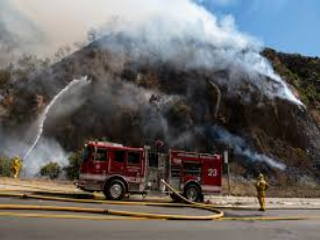smoke: (134, 5, 309, 110), (214, 128, 287, 170)
